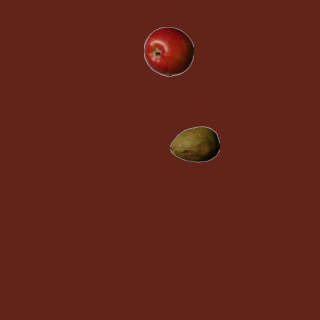Apple Braeburn: (143, 26, 193, 76)
Papaya: (169, 119, 219, 169)
